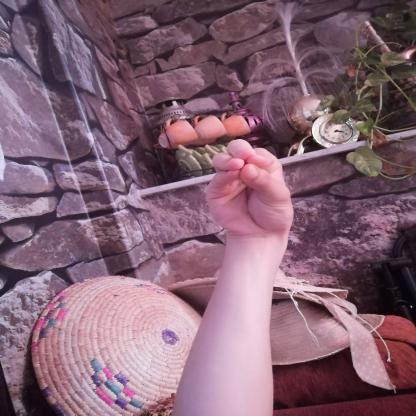HA: (192, 130, 307, 246)
